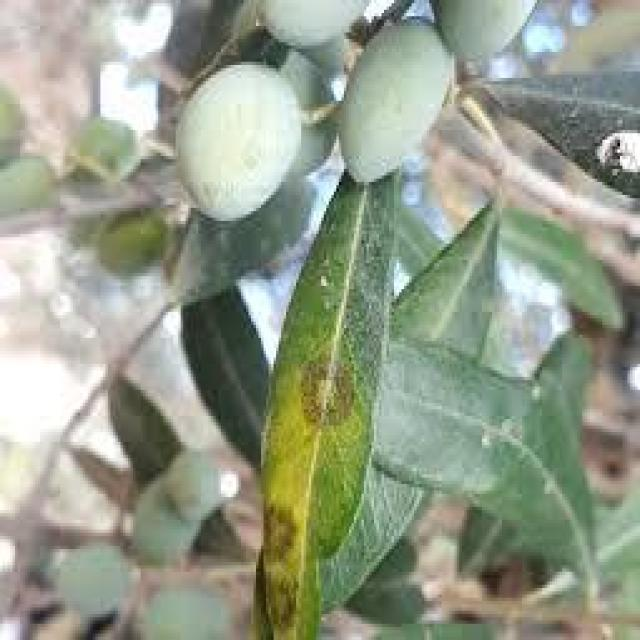Peacock Eye: (260, 172, 397, 637)
